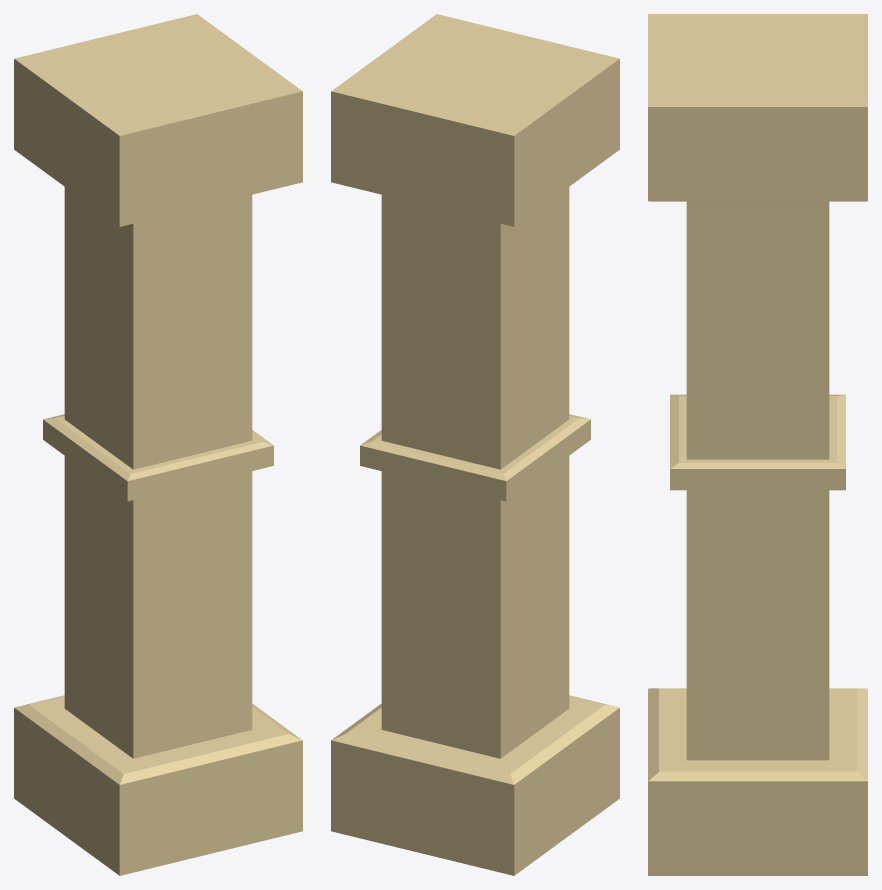
The model's file is Column.fbx.
3 renders of one model, left to right at view 1: azimuth 30°, elevation 25°; view 2: azimuth 150°, elevation 25°; view 3: azimuth 270°, elevation 25°, orthographic. The views are drawn at different scales.
Parts seen in each view (by area): view 1: Column; view 2: Column; view 3: Column.
Boxes of the visible parts, x1,y1,x2,y2 form: Column: [14, 14, 302, 875]; Column: [331, 14, 619, 875]; Column: [648, 14, 867, 875].
Size of the model in its own units: 200 by 773 by 200.
